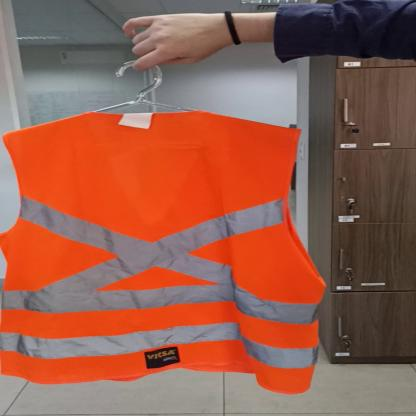colete: (0, 105, 327, 396)
